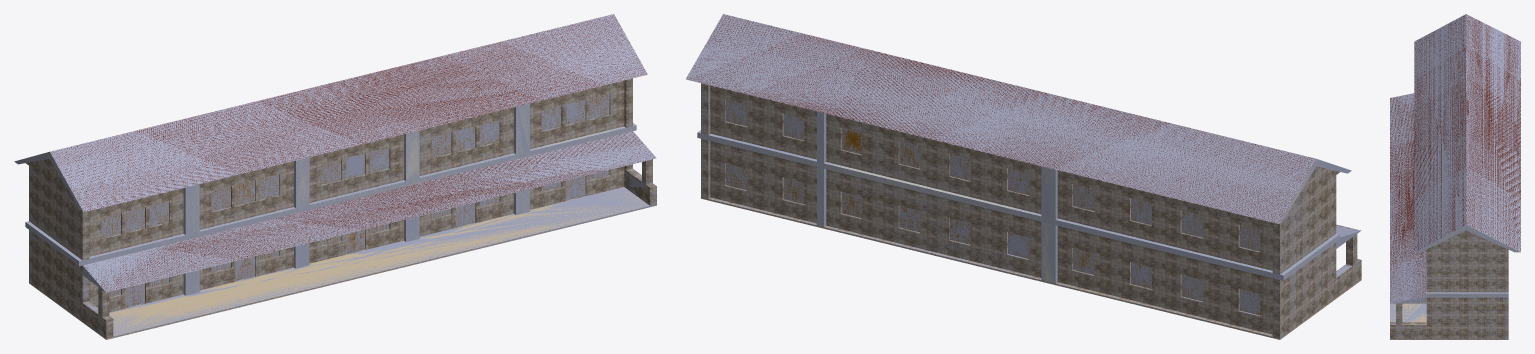
Rendered from Teres_2.fbx.
The picture shows the model from 3 angles, left to right: view 1: azimuth 30°, elevation 25°; view 2: azimuth 150°, elevation 25°; view 3: azimuth 270°, elevation 25°; orthographic projection. The views are drawn at different scales.
Visible parts, largest first — view 1: Model; view 2: Model; view 3: Model.
Boxes of the visible parts, left/top/right/bottom form: Model: left=14, top=14, right=656, bottom=339; Model: left=686, top=14, right=1361, bottom=339; Model: left=1390, top=14, right=1520, bottom=339.
Bounding box in the file's own units: 1968 × 512 × 516.
